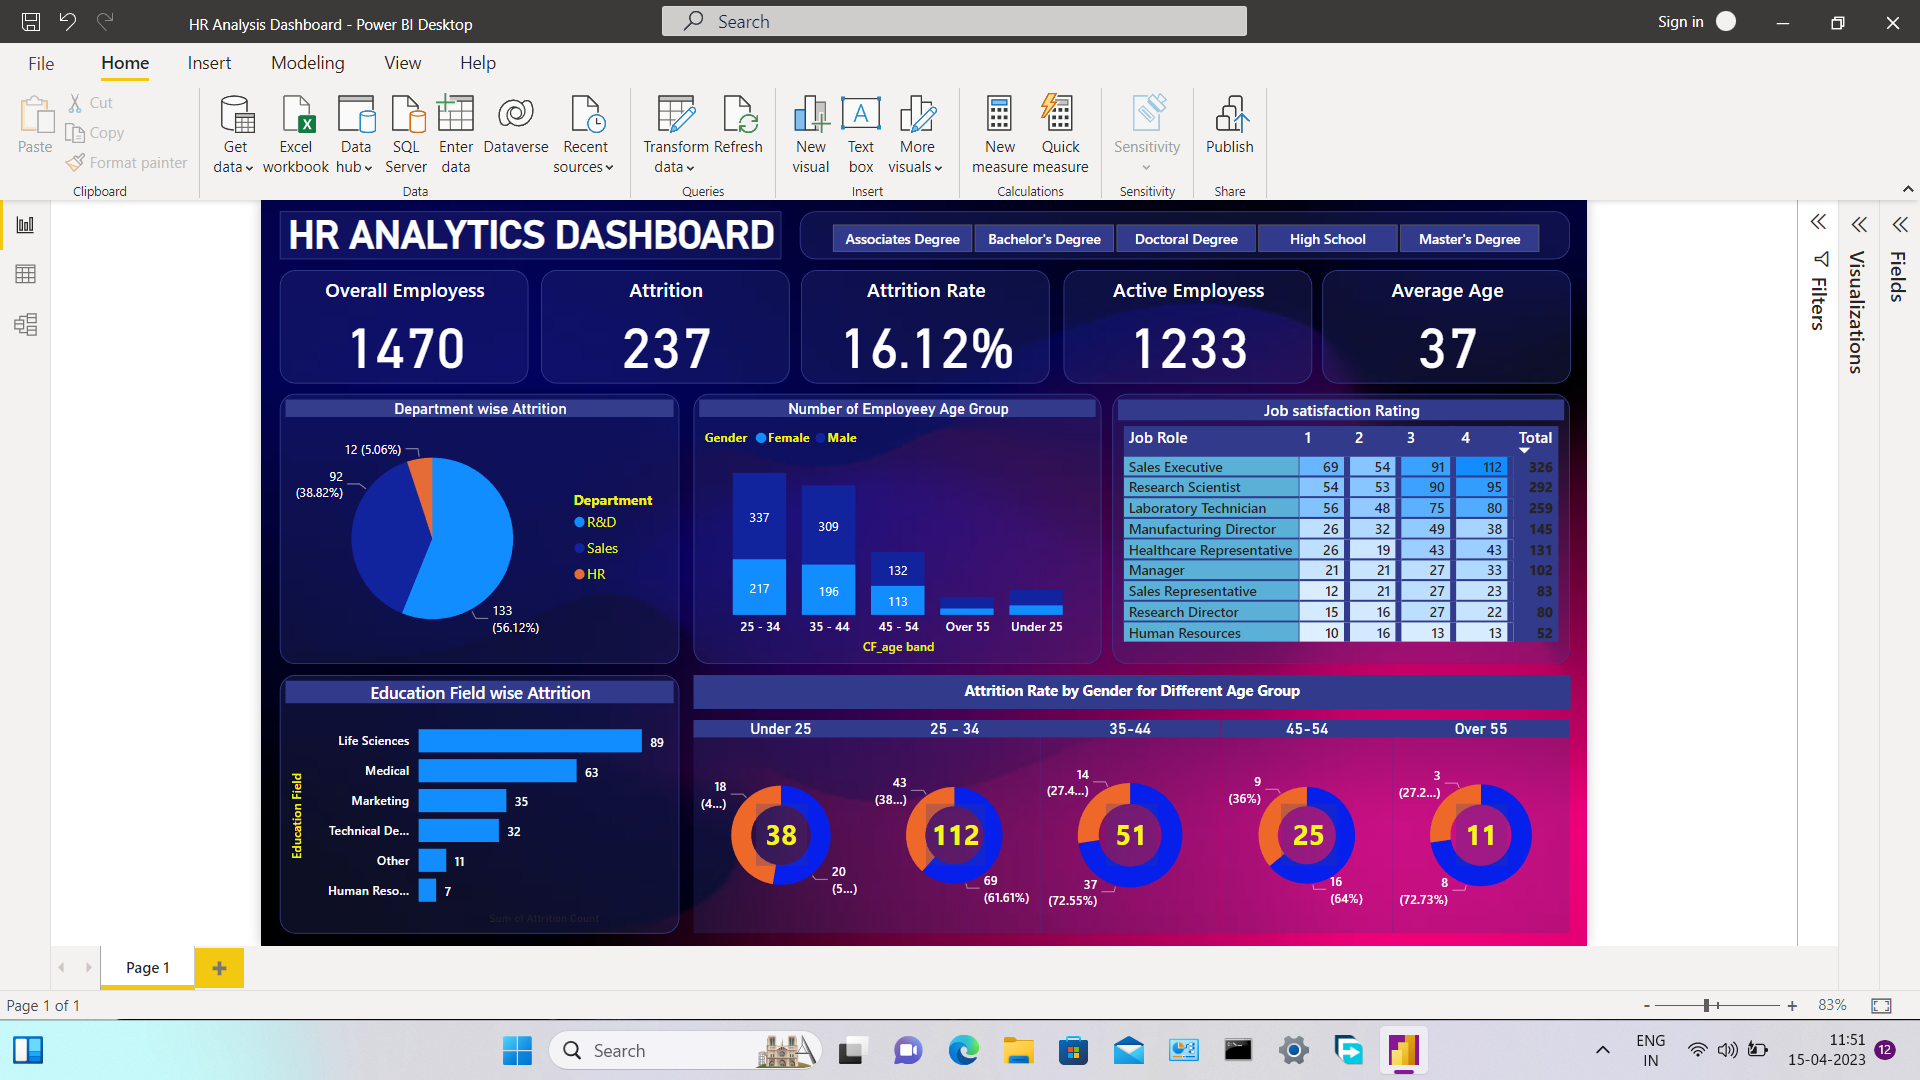

The dashboard page shown, as its layout file describes it:
{"tool":"powerbi","page":{"name":"Page 1","canvas":[1280,720],"ordinal":0},"visuals":[{"type":"card","title":"Overall Employess","fields":{"Values":["HR data.Employee Count"]},"box":[17.8,67.2,240.1,109.8],"z":0},{"type":"card","title":"Attrition ","fields":{"Values":["HR data.Attrition Count"]},"box":[270.3,67.2,240.1,109.8],"z":1000},{"type":"card","title":"Attrition Rate","fields":{"Values":["HR data.Attrition Rate"]},"box":[521.3,67.2,240.1,109.8],"z":2000},{"type":"card","title":"Active Employess","fields":{"Values":["HR data.Active Employes"]},"box":[773.8,67.2,240.1,109.8],"z":3000},{"type":"card","title":"Average Age","fields":{"Values":["HR data.Age"]},"box":[1023.5,67.2,240.1,109.8],"z":4000},{"type":"pieChart","title":"Department wise Attrition ","fields":{"Category":["HR data.Department"],"Y":["HR data.Attrition Count"]},"box":[17.8,186.6,385.5,260.7],"z":5000},{"type":"columnChart","title":"Number of Employeey Age Group","fields":{"Category":["HR data.CF_age band"],"Y":["HR data.Employee Count"],"Series":["HR data.Gender"]},"box":[417.1,186.6,393.7,260.7],"z":6000},{"type":"pivotTable","title":"Job satisfaction Rating","fields":{"Rows":["HR data.Job Role"],"Columns":["HR data.Job Satisfaction"],"Values":["HR data.Employee Count"]},"box":[821.8,186.6,441.8,260.7],"z":6001},{"type":"barChart","title":"Education Field wise Attrition","fields":{"Category":["HR data.Education Field"],"Y":["HR data.Attrition Count"]},"box":[17.8,458.2,385.5,249.7],"z":6002},{"type":"donutChart","title":"Under 25","fields":{"Category":["HR data.Gender"],"Y":["HR data.Attrition Count"],"Series":["HR data.CF_age band"]},"box":[417.1,502.1,168.7,205.8],"z":6003},{"type":"textbox","box":[417.1,458.2,846.5,32.9],"z":6004},{"type":"donutChart","title":"25 - 34","fields":{"Category":["HR data.Gender"],"Y":["HR data.Attrition Count"],"Series":["HR data.CF_age band"]},"box":[585.8,502.1,166,205.8],"z":6005},{"type":"donutChart","title":"35-44","fields":{"Category":["HR data.Gender"],"Y":["HR data.Attrition Count"],"Series":["HR data.CF_age band"]},"box":[751.8,502.1,174.2,205.8],"z":6006},{"type":"donutChart","title":"45-54","fields":{"Category":["HR data.Gender"],"Y":["HR data.Attrition Count"],"Series":["HR data.CF_age band"]},"box":[926,502.1,166,205.8],"z":6007},{"type":"donutChart","title":"Over 55","fields":{"Category":["HR data.Gender"],"Y":["HR data.Attrition Count"],"Series":["HR data.CF_age band"]},"box":[1092,502.1,171.5,205.8],"z":6008},{"type":"card","fields":{"Values":["HR data.Attrition Count"]},"box":[477.4,583.1,49.4,60.4],"z":6009},{"type":"card","fields":{"Values":["HR data.Attrition Count"]},"box":[642.1,583.1,57.6,60.4],"z":6011},{"type":"card","fields":{"Values":["HR data.Attrition Count"]},"box":[814.9,583.1,49.4,60.4],"z":6012},{"type":"card","fields":{"Values":["HR data.Attrition Count"]},"box":[983.7,583.1,53.5,60.4],"z":6013},{"type":"card","fields":{"Values":["HR data.Attrition Count"]},"box":[1152.4,583.1,49.4,60.4],"z":6014},{"type":"textbox","title":"HR ANALYTICS DASHBOARD ","box":[17.8,11,484.3,46.6],"z":6015},{"type":"slicer","fields":{"Values":["HR data.Education"]},"box":[520,11,743.6,46.6],"z":6016}]}

Visuals, with their boxes on the page's 1280x720 design canvas (x1, y1, x2, y2). These are canvas units, not pixel positions in the 1920x1080 screenshot, which may show the page scaled, cropped or inside an application window:
"Overall Employess" card: bbox=[18, 67, 258, 177]
"Attrition " card: bbox=[270, 67, 510, 177]
"Attrition Rate" card: bbox=[521, 67, 761, 177]
"Active Employess" card: bbox=[774, 67, 1014, 177]
"Average Age" card: bbox=[1024, 67, 1264, 177]
"Department wise Attrition " pieChart: bbox=[18, 187, 403, 447]
"Number of Employeey Age Group" columnChart: bbox=[417, 187, 811, 447]
"Job satisfaction Rating" pivotTable: bbox=[822, 187, 1264, 447]
"Education Field wise Attrition" barChart: bbox=[18, 458, 403, 708]
"Under 25" donutChart: bbox=[417, 502, 586, 708]
textbox: bbox=[417, 458, 1264, 491]
"25 - 34" donutChart: bbox=[586, 502, 752, 708]
"35-44" donutChart: bbox=[752, 502, 926, 708]
"45-54" donutChart: bbox=[926, 502, 1092, 708]
"Over 55" donutChart: bbox=[1092, 502, 1264, 708]
card - HR data.Attrition Count: bbox=[477, 583, 527, 644]
card - HR data.Attrition Count: bbox=[642, 583, 700, 644]
card - HR data.Attrition Count: bbox=[815, 583, 864, 644]
card - HR data.Attrition Count: bbox=[984, 583, 1037, 644]
card - HR data.Attrition Count: bbox=[1152, 583, 1202, 644]
"HR ANALYTICS DASHBOARD " textbox: bbox=[18, 11, 502, 58]
slicer - HR data.Education: bbox=[520, 11, 1264, 58]
